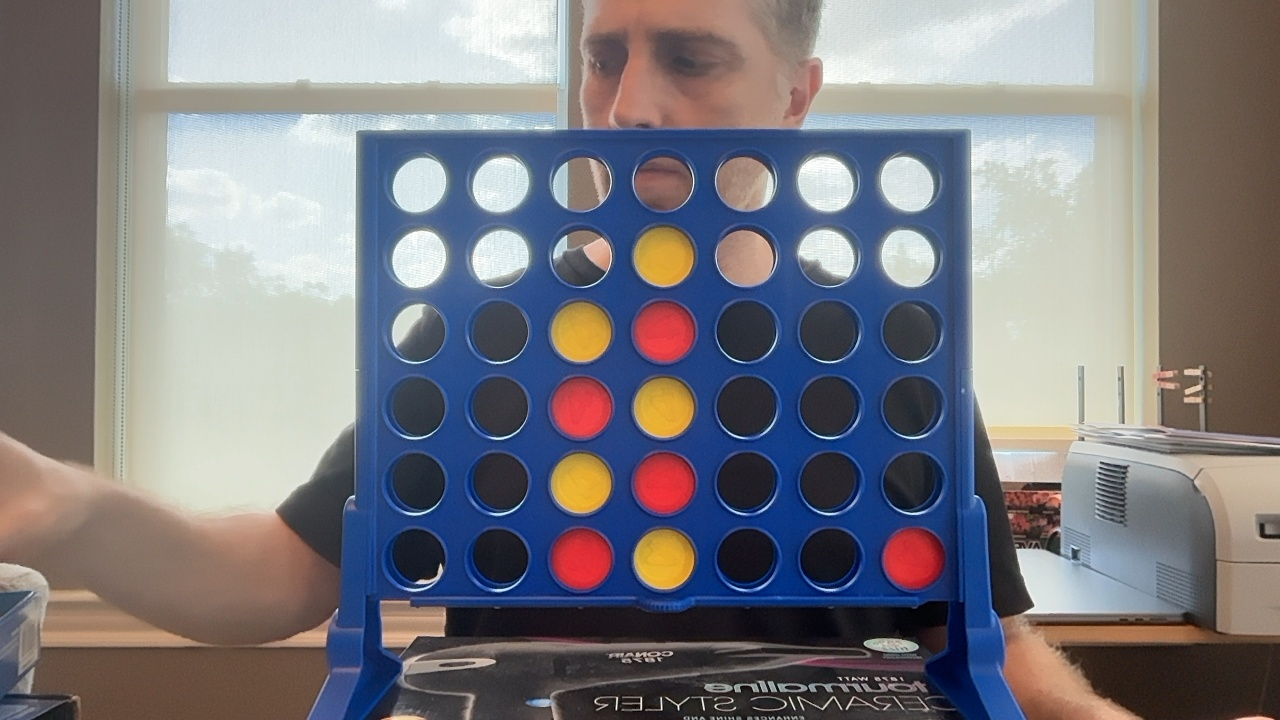red piece: (550, 528, 612, 591), (633, 300, 695, 363), (633, 452, 695, 515), (883, 527, 945, 590), (551, 376, 612, 439)
yellow piece: (633, 528, 695, 590), (633, 377, 695, 438), (550, 453, 612, 514), (550, 301, 612, 362), (633, 226, 694, 287)
